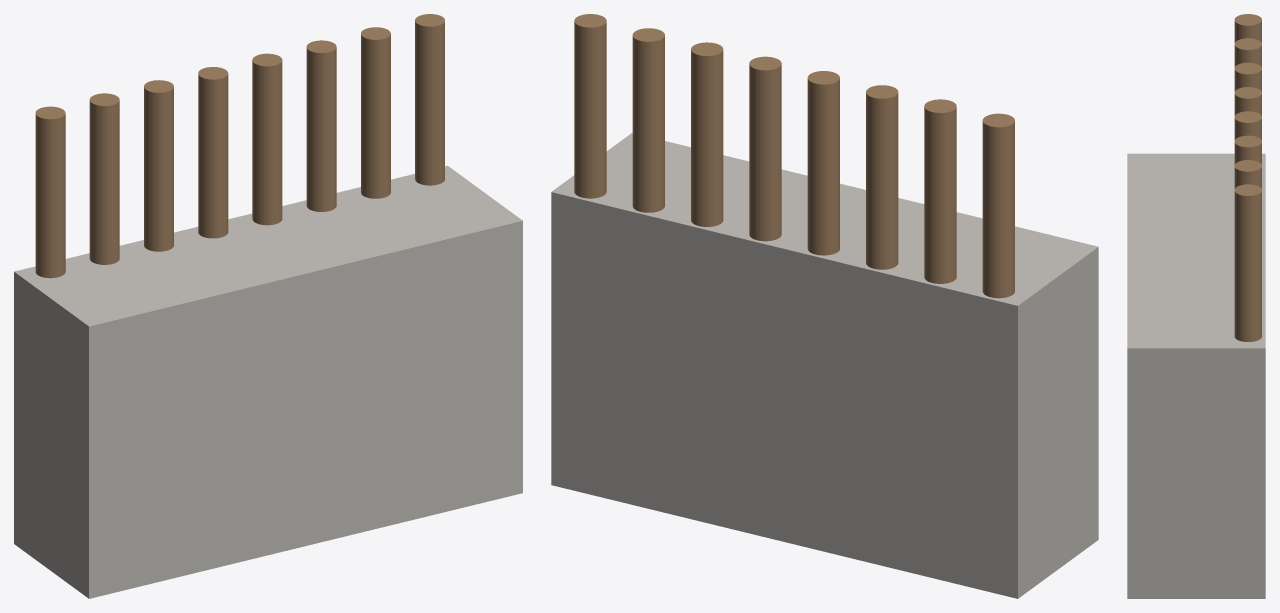
File: castrum_wall.glb
The picture shows the model from 3 angles, left to right: view 1: azimuth 30°, elevation 25°; view 2: azimuth 150°, elevation 25°; view 3: azimuth 270°, elevation 25°; orthographic projection. The views are drawn at different scales.
Visible parts, largest first — view 1: CastrumWall; view 2: CastrumWall; view 3: CastrumWall.
Part boxes in pixels (left/top/right/bottom): CastrumWall: left=14, top=14, right=522, bottom=598; CastrumWall: left=551, top=14, right=1098, bottom=598; CastrumWall: left=1127, top=14, right=1265, bottom=598.
Bounding box in the file's own units: 4 × 3.8 × 1.2.
